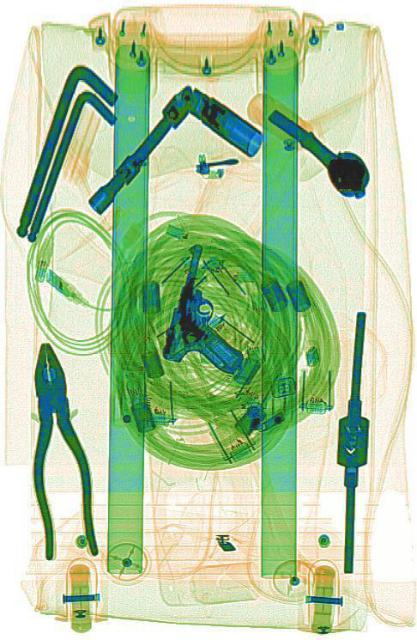Gun: (161, 240, 262, 390)
Pliers: (16, 336, 98, 564)
